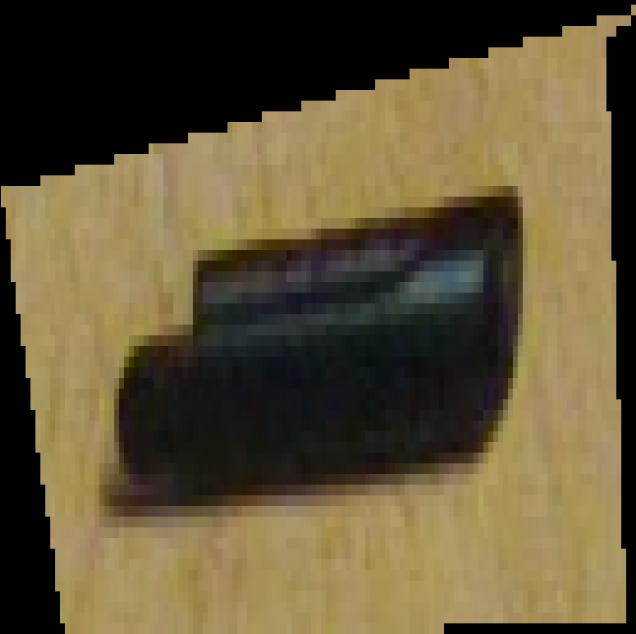black: (0, 1, 636, 634)
